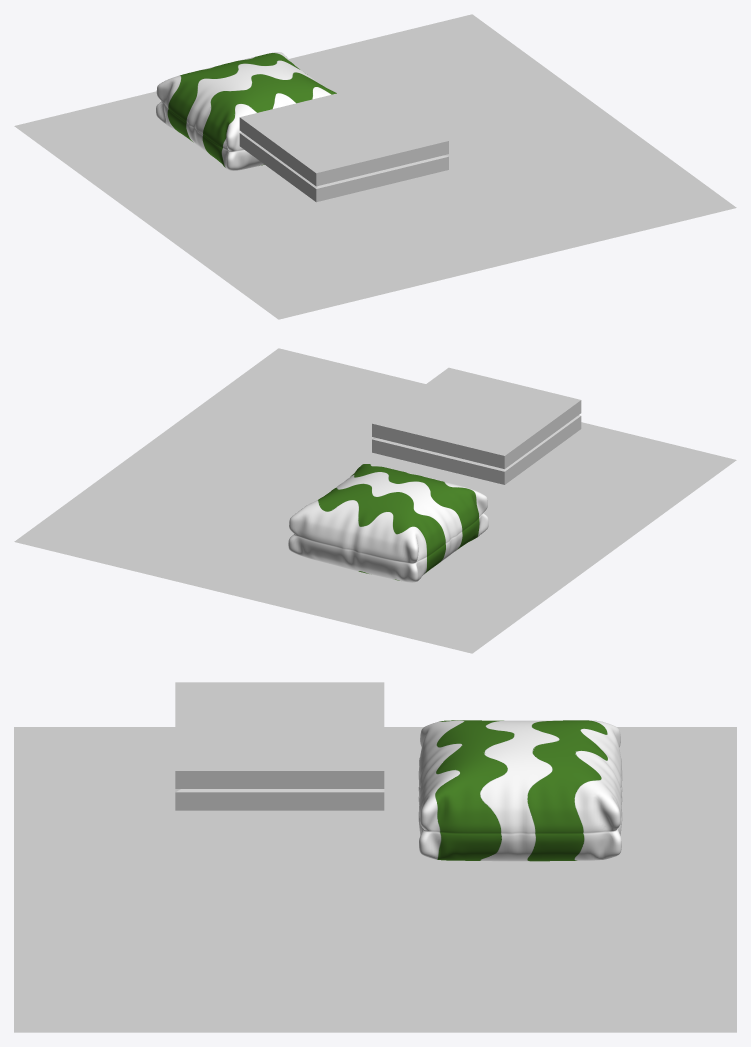
The model's file is Pillow.glb.
3 renders of one model, top to bottom at view 1: azimuth 30°, elevation 25°; view 2: azimuth 150°, elevation 25°; view 3: azimuth 270°, elevation 25°, orthographic. The views are drawn at different scales.
Visible parts, largest first — view 1: Plane, Cube, applied_copy; view 2: Plane, Cube, applied_copy; view 3: Plane, applied_copy, Cube.
Boxes of the visible parts, x1,y1,x2,y2 form: Plane: (14,14,736,319); Cube: (239,85,448,202); applied_copy: (156,52,336,170); Plane: (14,348,736,653); Cube: (372,367,581,484); applied_copy: (288,464,488,582); Plane: (14,727,736,1032); applied_copy: (418,720,622,861); Cube: (175,682,384,810).
Size of the model in its own units: 6.91 by 1.15 by 6.91.
1 material, 1 textured.
